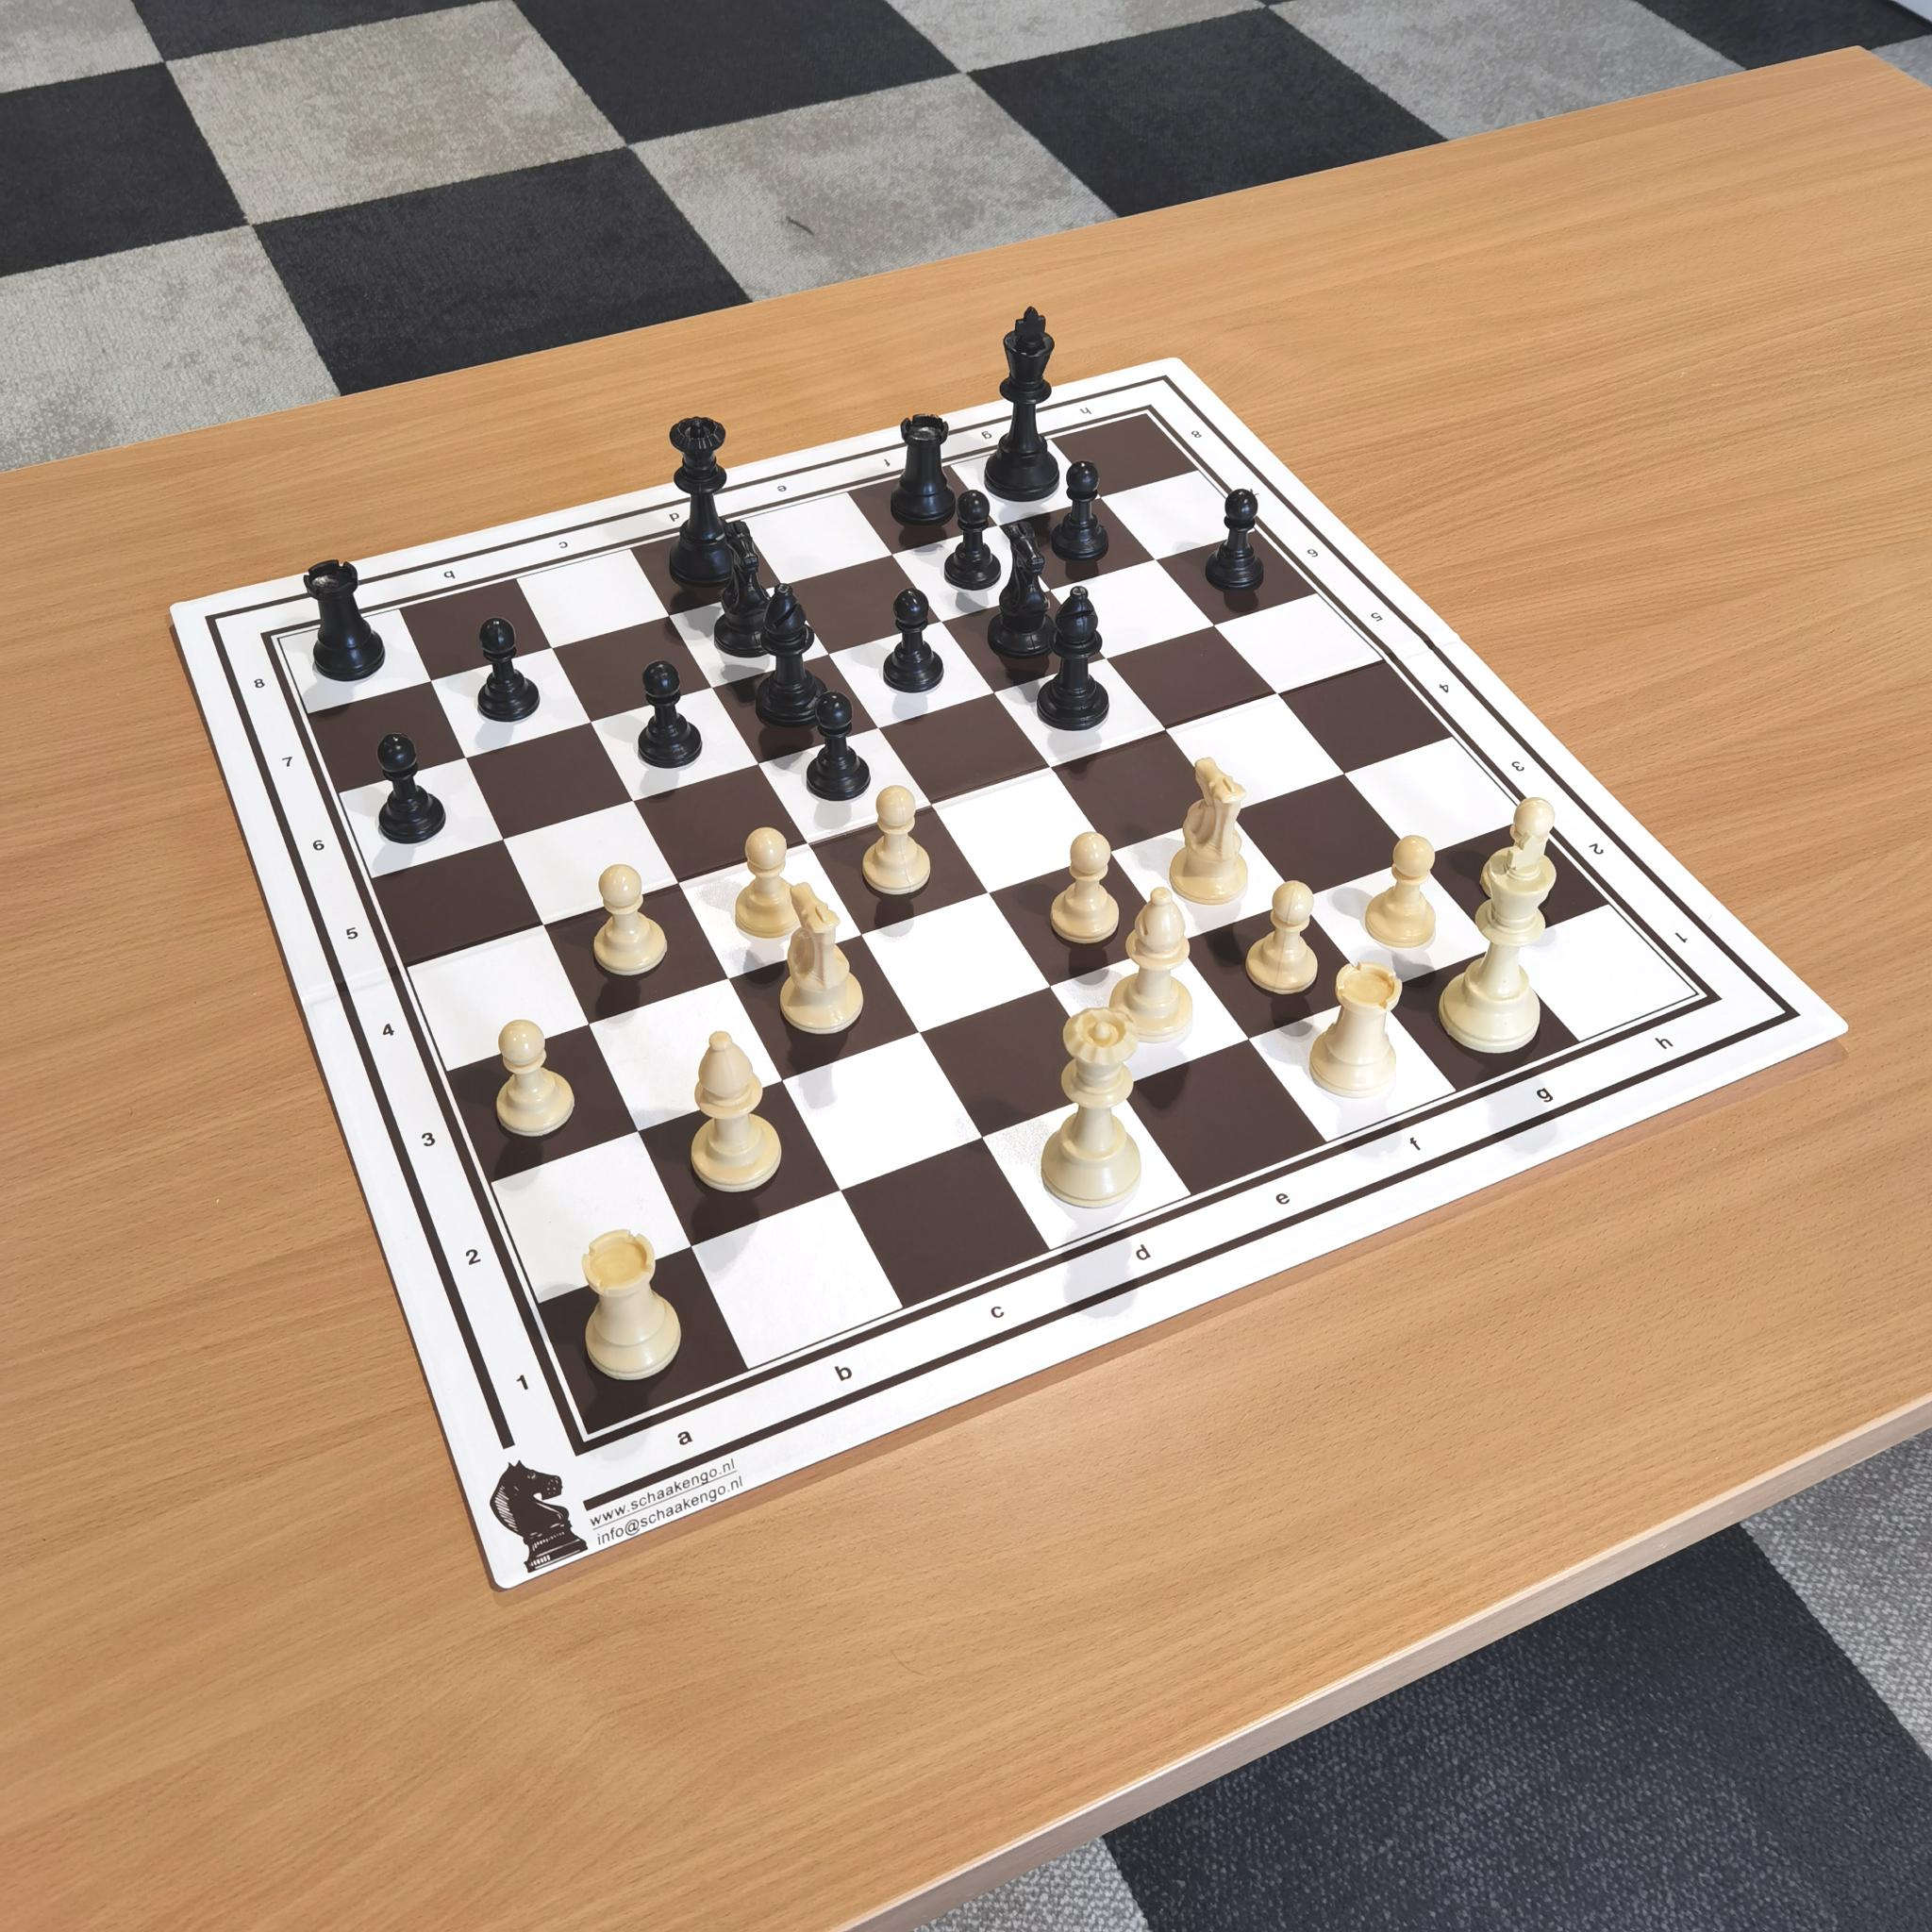corners: (550, 1414, 609, 1479), (1679, 971, 1744, 1019), (251, 625, 303, 665), (1127, 398, 1171, 437)
eight: (248, 658, 281, 702), (1180, 419, 1208, 451)
one: (499, 1348, 552, 1419), (1665, 922, 1700, 955)
